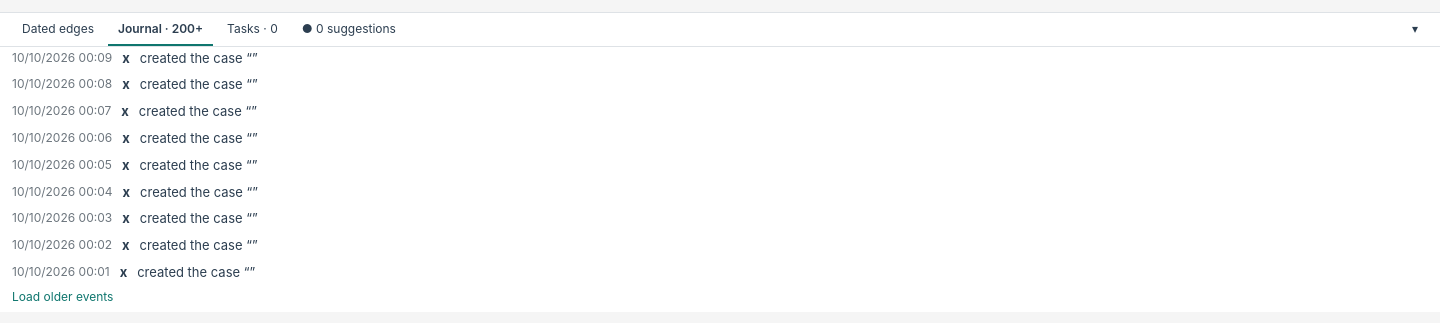
Test: CaseTimeline · Journal (UX-1) › loads older events on request when the newest page is full
The width and height of the screenshot is (1440, 323).
(page scrolled)
Expected: the button with test id "timeline-tab-activity" shows "200+", [108,13,213,46]
Click the button with test id "journal-older": (63, 296) [12,287,113,306]
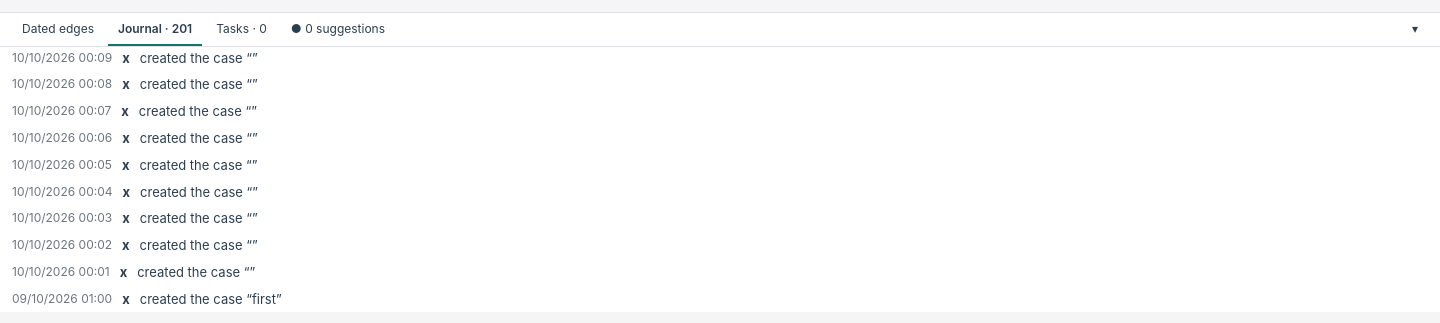
Expected: the button with test id "journal-older" is gone
